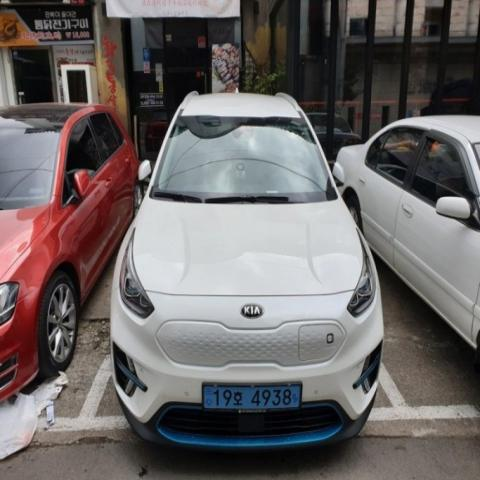LP: (195, 372, 308, 421)
